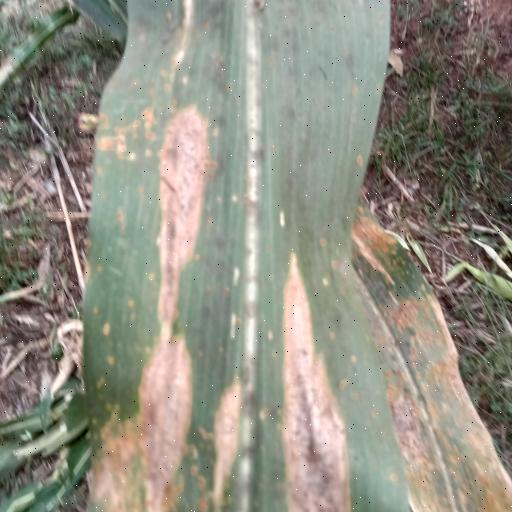Corn_Rust: (76, 0, 421, 512)
